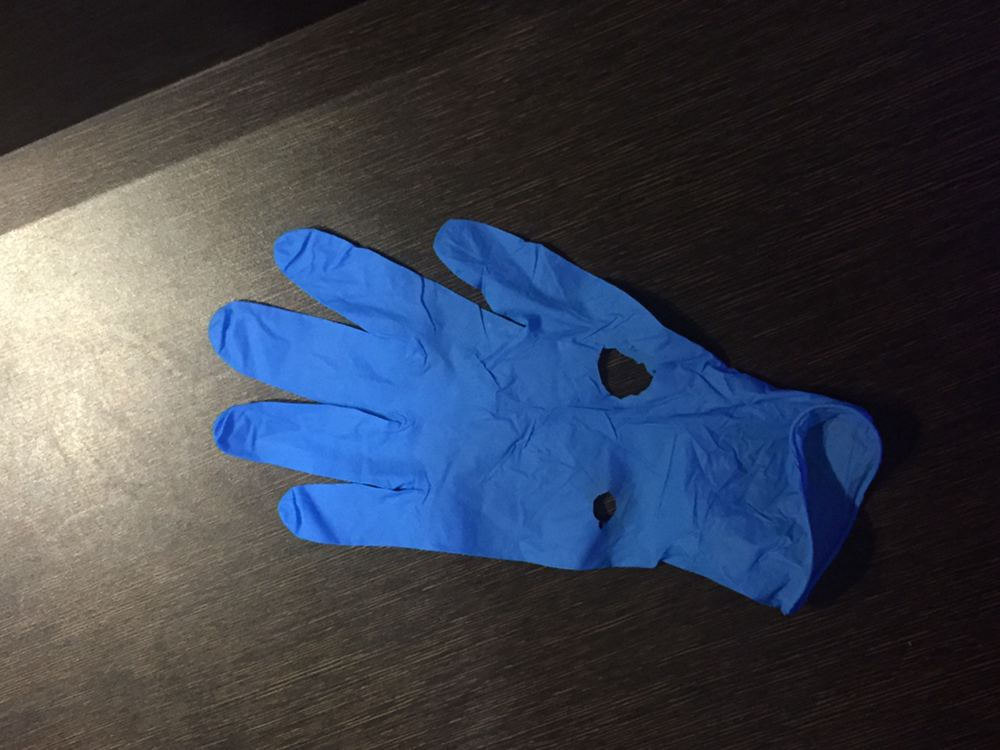defected: (188, 172, 903, 625)
